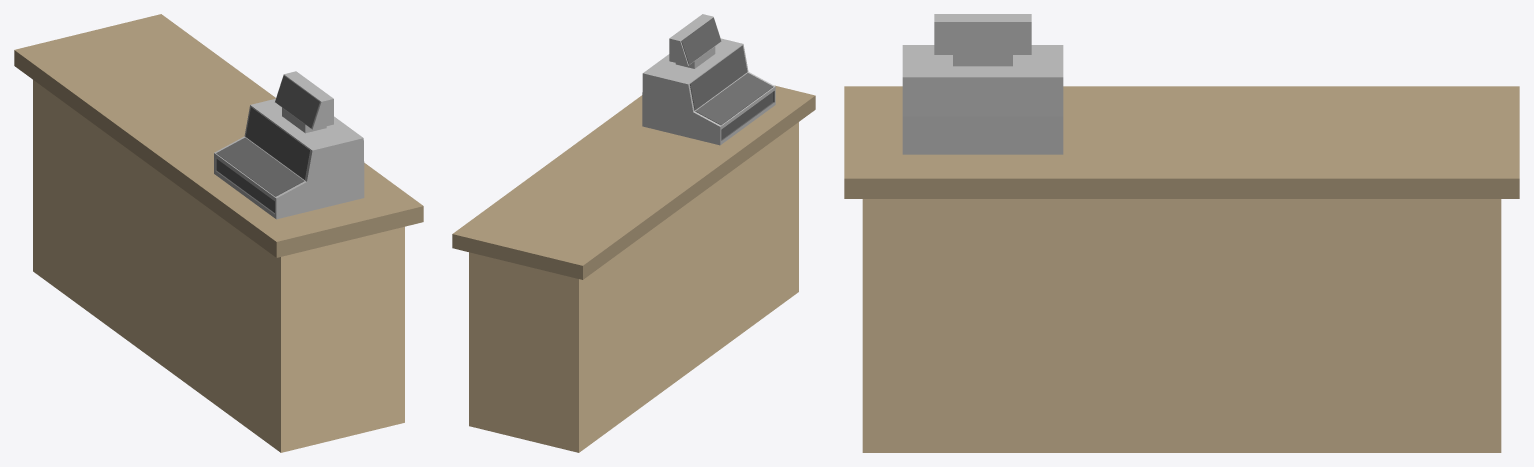
Rendered from Cash Register.fbx.
3 renders of one model, left to right at view 1: azimuth 30°, elevation 25°; view 2: azimuth 150°, elevation 25°; view 3: azimuth 270°, elevation 25°, orthographic. The views are drawn at different scales.
Parts seen in each view (by area): view 1: Counter, Cash Register; view 2: Counter, Cash Register; view 3: Counter, Cash Register.
Part boxes in pixels (x1,y1,x2,y2): Counter: (14,14,423,452); Cash Register: (214,71,364,219); Counter: (452,85,815,452); Cash Register: (642,14,775,145); Counter: (844,86,1519,452); Cash Register: (902,14,1063,154).
Bounding box in the file's own units: 68.46 × 140 × 211.
